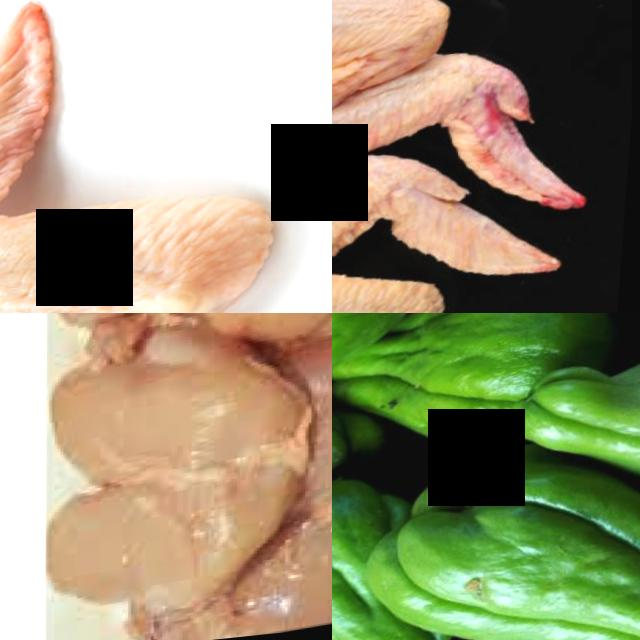chayote: (371, 459, 640, 640), (332, 313, 584, 443), (529, 325, 640, 492), (332, 471, 434, 640)
chicken breast: (39, 319, 306, 636)
chicken wing: (0, 0, 326, 313), (332, 0, 466, 182), (332, 139, 464, 313)
